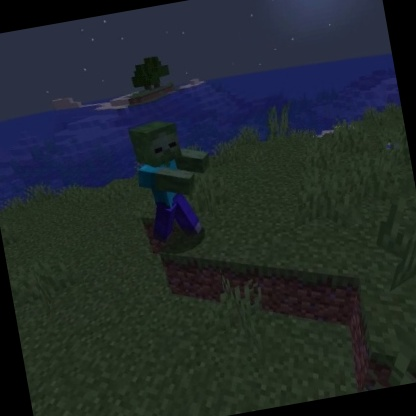zombie: (122, 110, 225, 250)
